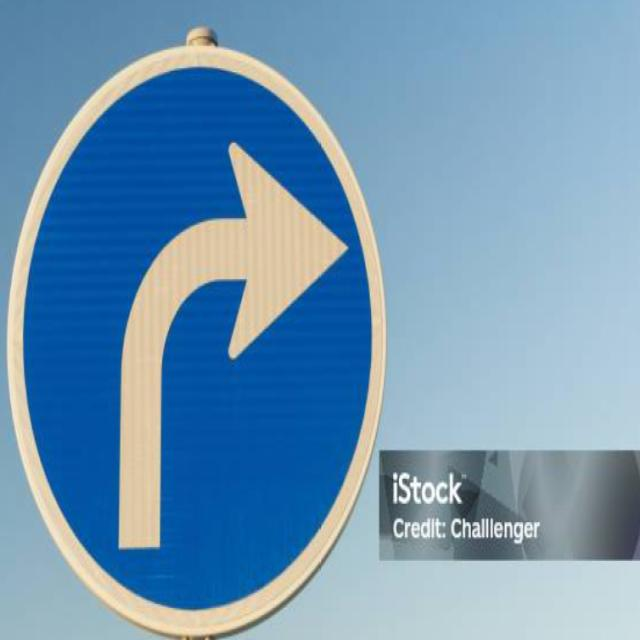RIGHT: (8, 29, 385, 639)
